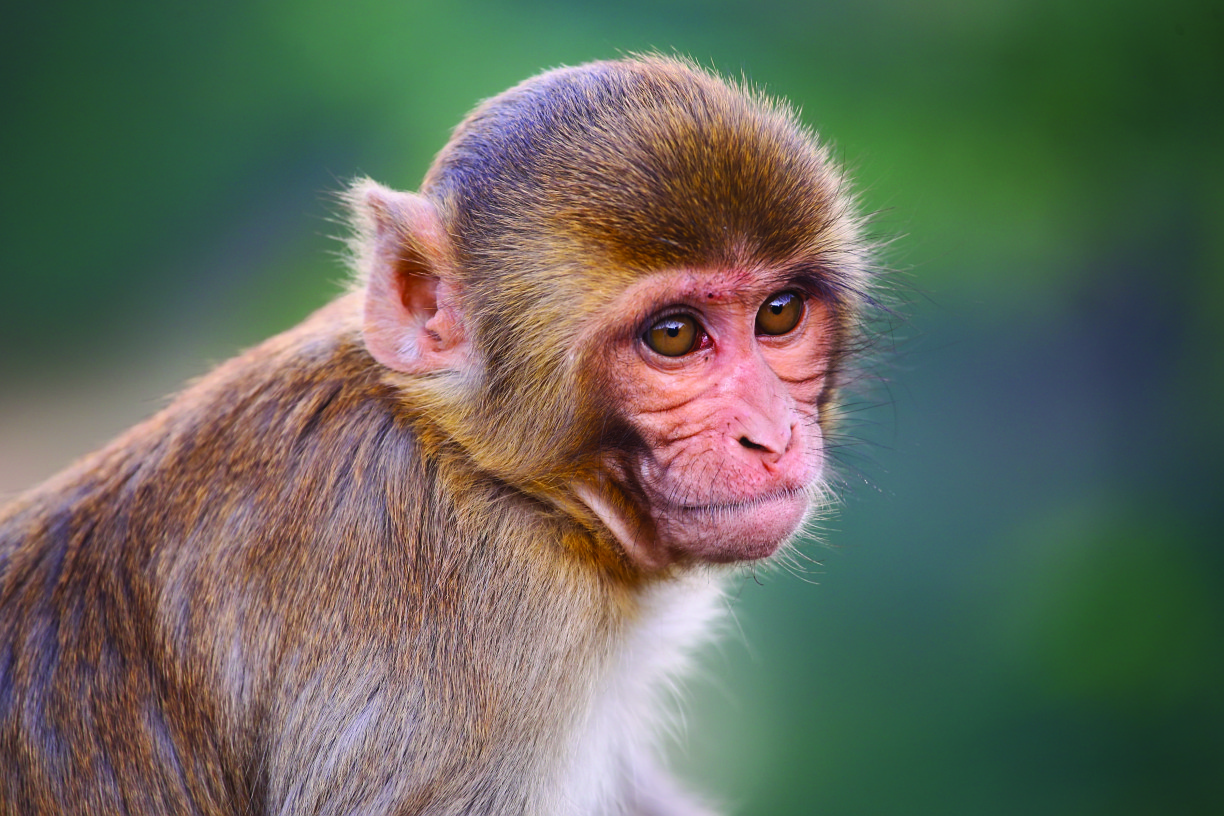monkey: (1, 52, 945, 816)
